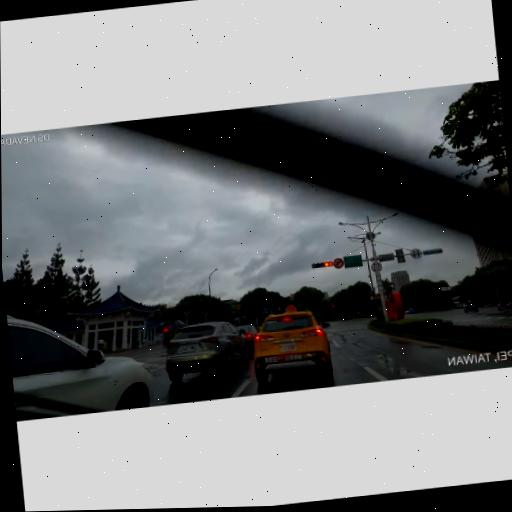Car: (6, 293, 155, 422), (247, 306, 333, 387), (161, 318, 251, 381), (224, 320, 265, 361)
